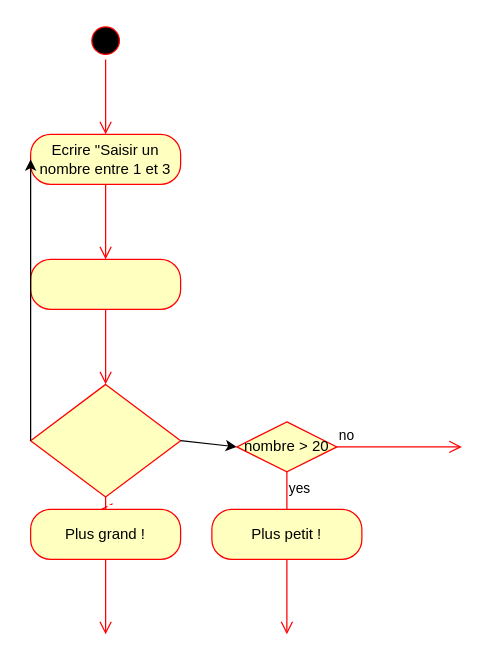
Image size: 496x669. Some labels were removed from this diagram. The shapes that lost their labels are listed below. From the top down, each one's box as (x1, y1, x2, y2) in pixels, then its label:
(29, 258, 181, 309): Lire nombre
(29, 383, 181, 497): nombre < 10
